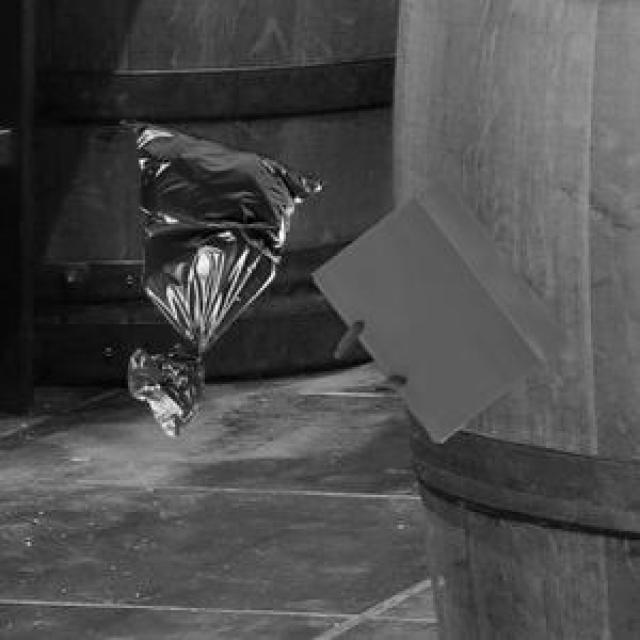miscellaneous trash: (118, 117, 324, 433)
paper: (309, 171, 565, 437)
